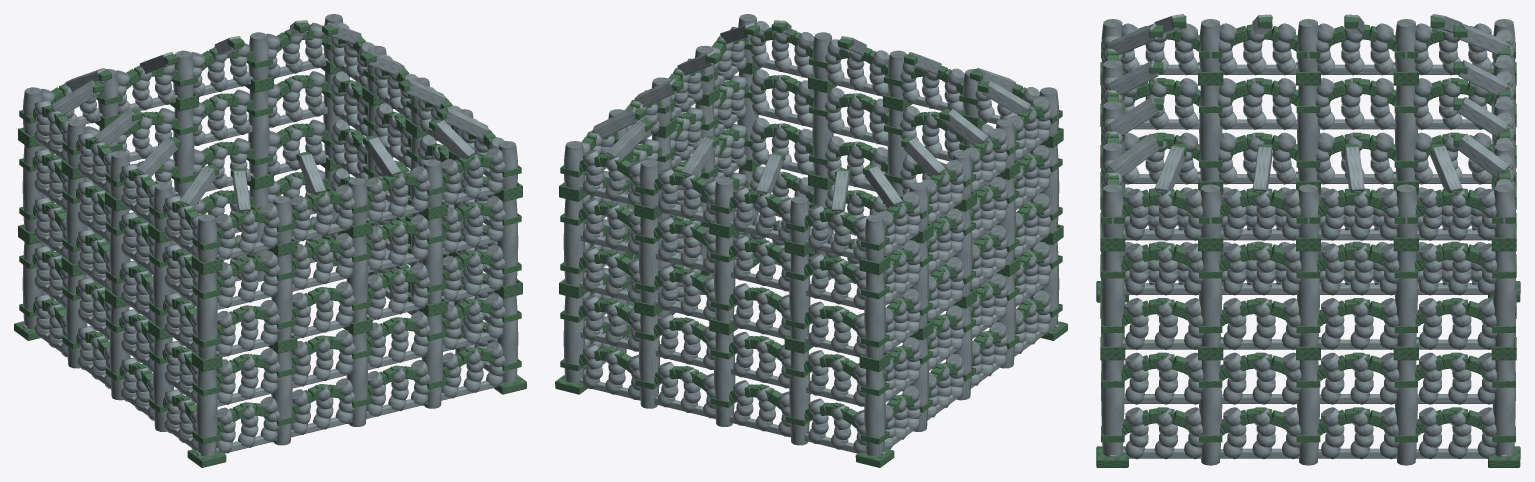
3 views of the same model, side by side, from view 1: azimuth 30°, elevation 25°; view 2: azimuth 150°, elevation 25°; view 3: azimuth 270°, elevation 25° (orthographic). The views are drawn at different scales.
Parts seen in each view (by area): view 1: Tier 0 side 0 post 0, Tier 1 side 0 post 0, Tier 1 side 2 post 1, Tier 0 side 0 post 1, Tier 1 side 2 post 2, Tier 0 side 0 post 2, Tier 0 side 0 post 3, Tier 1 side 0 post 1, Tier 1 side 0 post 2, Tier 0 side 1 post 0, Tier 1 side 1 post 0, Tier 1 side 0 post 3 (+32 smaller); view 2: Tier 0 side 3 post 0, Tier 1 side 3 post 0, Tier 0 side 2 post 3, Tier 0 side 2 post 2, Tier 0 side 2 post 1, Tier 0 side 2 post 0, Tier 1 side 2 post 0, Tier 1 side 2 post 3, Tier 1 side 2 post 2, Tier 1 side 2 post 1, Tier 1 side 0 post 3, Tier 1 side 0 post 2 (+28 smaller); view 3: Tier 0 side 1 post 3, Tier 0 side 1 post 2, Tier 0 side 1 post 1, Tier 0 side 1 post 0, Tier 1 side 1 post 0, Tier 0 side 2 post 0, Tier 1 side 2 post 0, Tier 1 side 3 post 3, Tier 1 side 3 post 2, Tier 1 side 3 post 1, Tier 1 side 1 post 3, Tier 1 side 1 post 2 (+23 smaller).
Boxes of the visible parts, bbox=[...] form: Tier 0 side 0 post 0: bbox=[196, 369, 217, 456]; Tier 1 side 0 post 0: bbox=[196, 272, 217, 359]; Tier 1 side 2 post 1: bbox=[248, 90, 269, 177]; Tier 0 side 0 post 1: bbox=[271, 351, 292, 445]; Tier 1 side 2 post 2: bbox=[173, 108, 194, 195]; Tier 0 side 0 post 2: bbox=[346, 332, 367, 426]; Tier 0 side 0 post 3: bbox=[421, 314, 442, 408]; Tier 1 side 0 post 1: bbox=[271, 254, 292, 341]; Tier 1 side 0 post 2: bbox=[346, 235, 367, 322]; Tier 0 side 1 post 0: bbox=[497, 295, 518, 382]; Tier 1 side 1 post 0: bbox=[497, 199, 518, 286]; Tier 1 side 0 post 3: bbox=[421, 217, 442, 304]; Tier 0 side 3 post 0: bbox=[864, 369, 885, 456]; Tier 1 side 3 post 0: bbox=[864, 272, 885, 359]; Tier 0 side 2 post 3: bbox=[789, 350, 810, 445]; Tier 0 side 2 post 2: bbox=[714, 332, 735, 426]; Tier 0 side 2 post 1: bbox=[638, 314, 660, 408]; Tier 0 side 2 post 0: bbox=[563, 295, 584, 382]; Tier 1 side 2 post 0: bbox=[563, 199, 584, 286]; Tier 1 side 2 post 3: bbox=[789, 253, 810, 341]; Tier 1 side 2 post 2: bbox=[714, 235, 735, 322]; Tier 1 side 2 post 1: bbox=[638, 217, 660, 304]; Tier 1 side 0 post 3: bbox=[812, 90, 833, 177]; Tier 1 side 0 post 2: bbox=[887, 108, 908, 195]; Tier 0 side 1 post 3: bbox=[1394, 360, 1417, 465]; Tier 0 side 1 post 2: bbox=[1297, 360, 1319, 465]; Tier 0 side 1 post 1: bbox=[1199, 360, 1222, 465]; Tier 0 side 1 post 0: bbox=[1101, 360, 1124, 456]; Tier 1 side 1 post 0: bbox=[1101, 251, 1124, 346]; Tier 0 side 2 post 0: bbox=[1492, 360, 1515, 456]; Tier 1 side 2 post 0: bbox=[1492, 251, 1515, 346]; Tier 1 side 3 post 3: bbox=[1199, 85, 1222, 181]; Tier 1 side 3 post 2: bbox=[1297, 85, 1319, 181]; Tier 1 side 3 post 1: bbox=[1394, 85, 1417, 181]; Tier 1 side 1 post 3: bbox=[1394, 251, 1417, 346]; Tier 1 side 1 post 2: bbox=[1297, 251, 1319, 346].
Size of the model in its own units: 1.95 by 1.51 by 1.95.
Materials: 2 (2 with a texture image).
